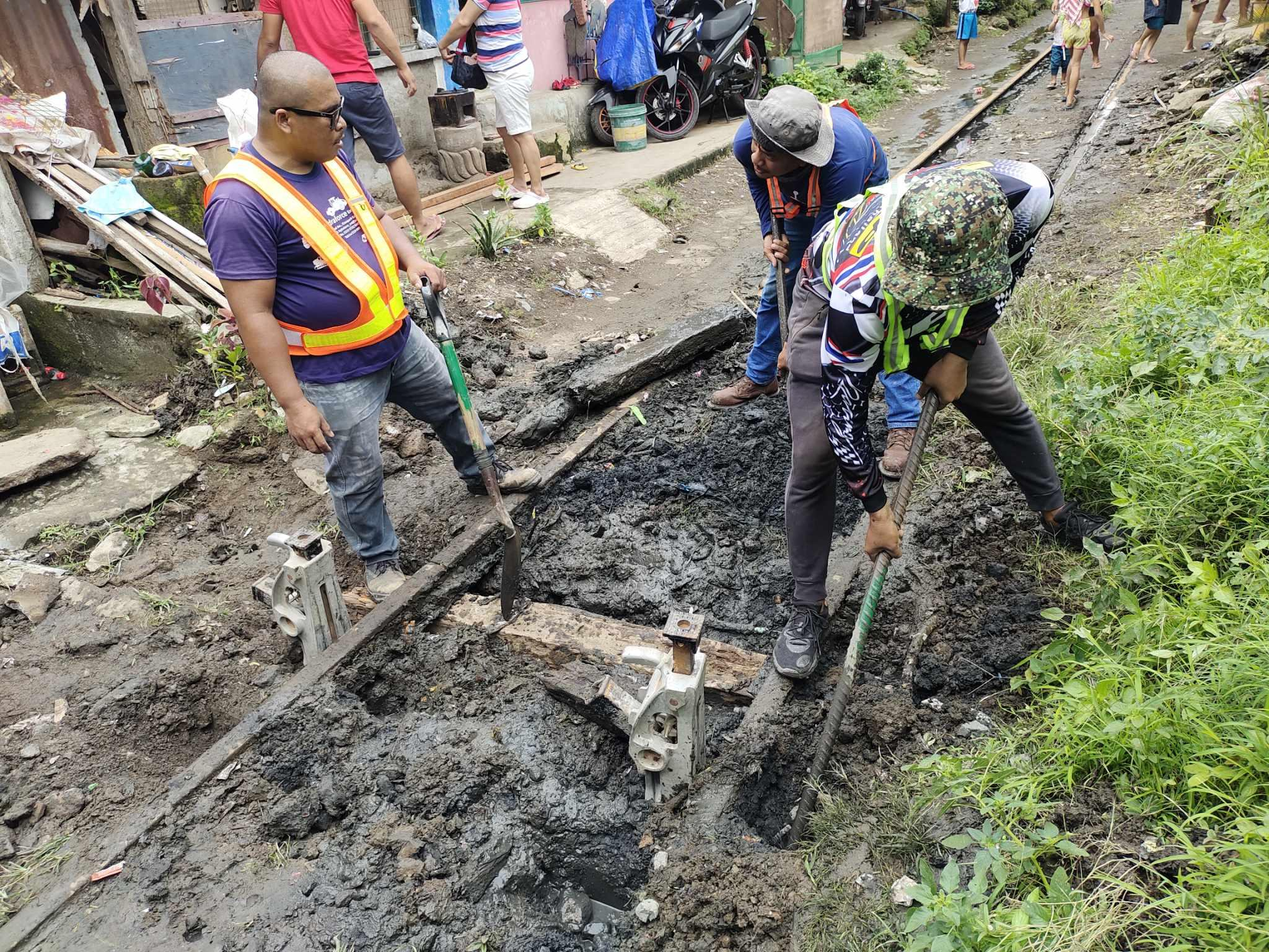railway-gap: (398, 527, 469, 599)
